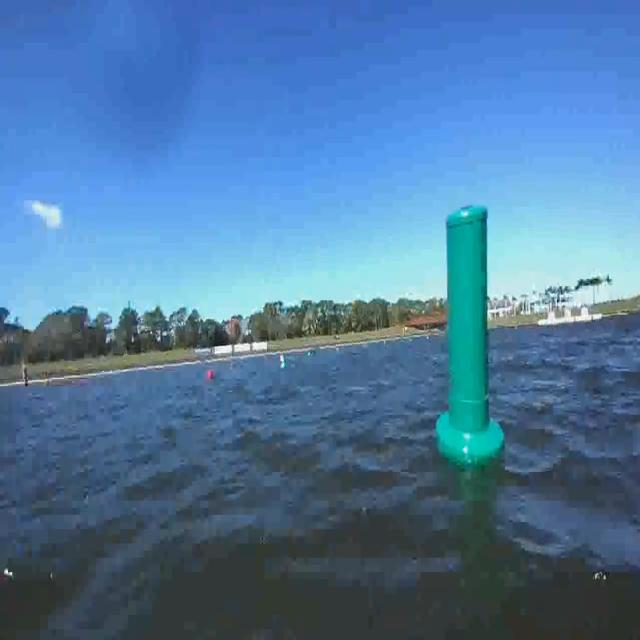green-buoy: (280, 358, 288, 372)
green-column-buoy: (434, 208, 502, 466)
red-buoy: (208, 368, 215, 379)
